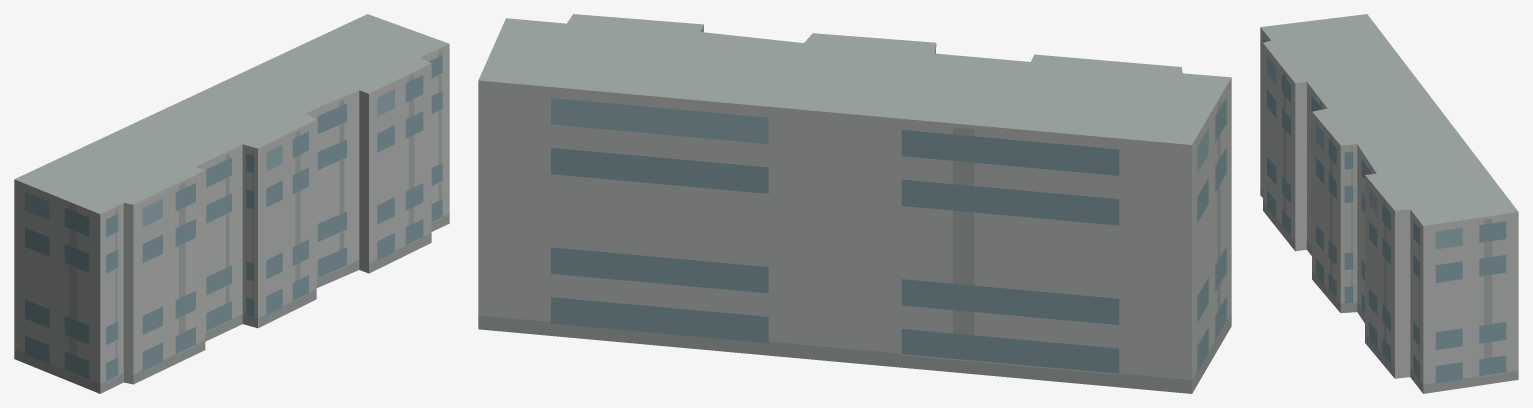
File: survey-upis-32766752.glb
3 views of the same model, side by side, from view 1: azimuth 30°, elevation 25°; view 2: azimuth 150°, elevation 25°; view 3: azimuth 270°, elevation 25° (orthographic). The views are drawn at different scales.
Parts seen in each view (by area): view 1: survey-upis-32766752.tmp; view 2: survey-upis-32766752.tmp; view 3: survey-upis-32766752.tmp.
Part boxes in pixels (<box>): survey-upis-32766752.tmp: <box>14,14,449,393</box>; survey-upis-32766752.tmp: <box>478,14,1231,393</box>; survey-upis-32766752.tmp: <box>1260,14,1518,393</box>.
Size of the model in its own units: 41.34 by 15.25 by 21.28.
